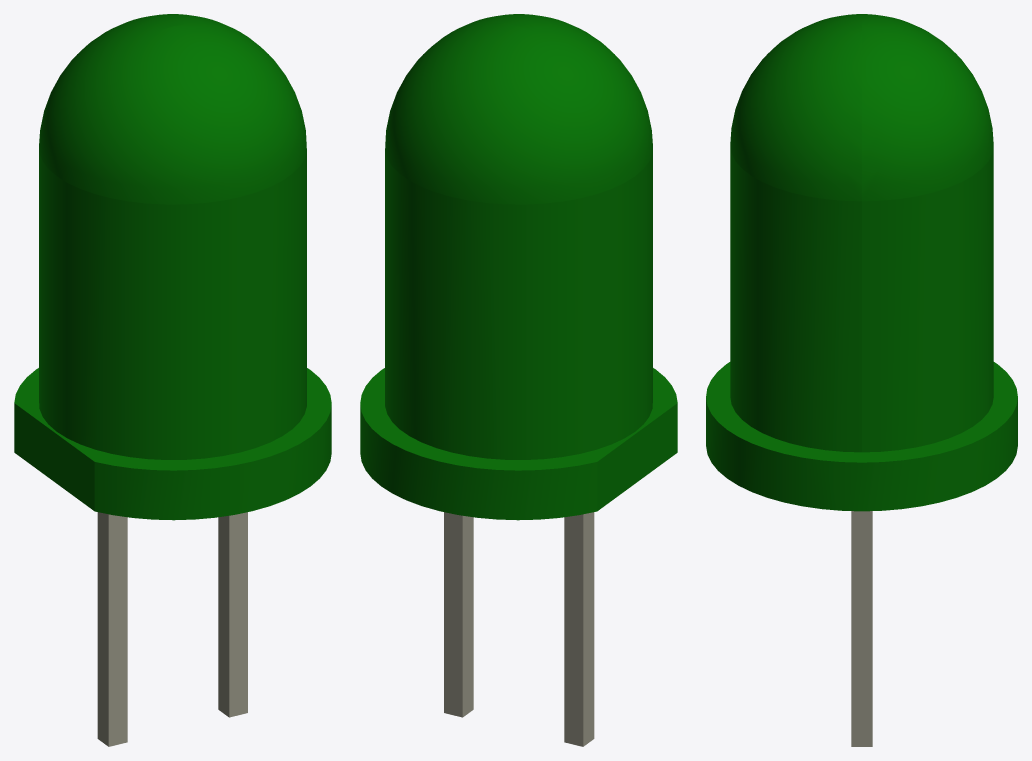
The model's file is led-5mm-green.glb.
The picture shows the model from 3 angles, left to right: view 1: azimuth 30°, elevation 25°; view 2: azimuth 150°, elevation 25°; view 3: azimuth 270°, elevation 25°; orthographic projection.
Size of the model in its own units: 5.4 by 14.1 by 5.8.
